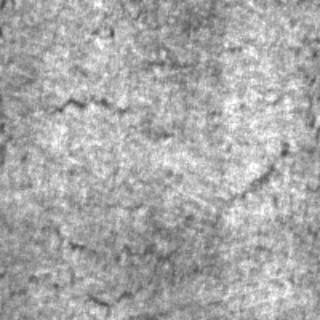crazing: (48, 143, 290, 315)
